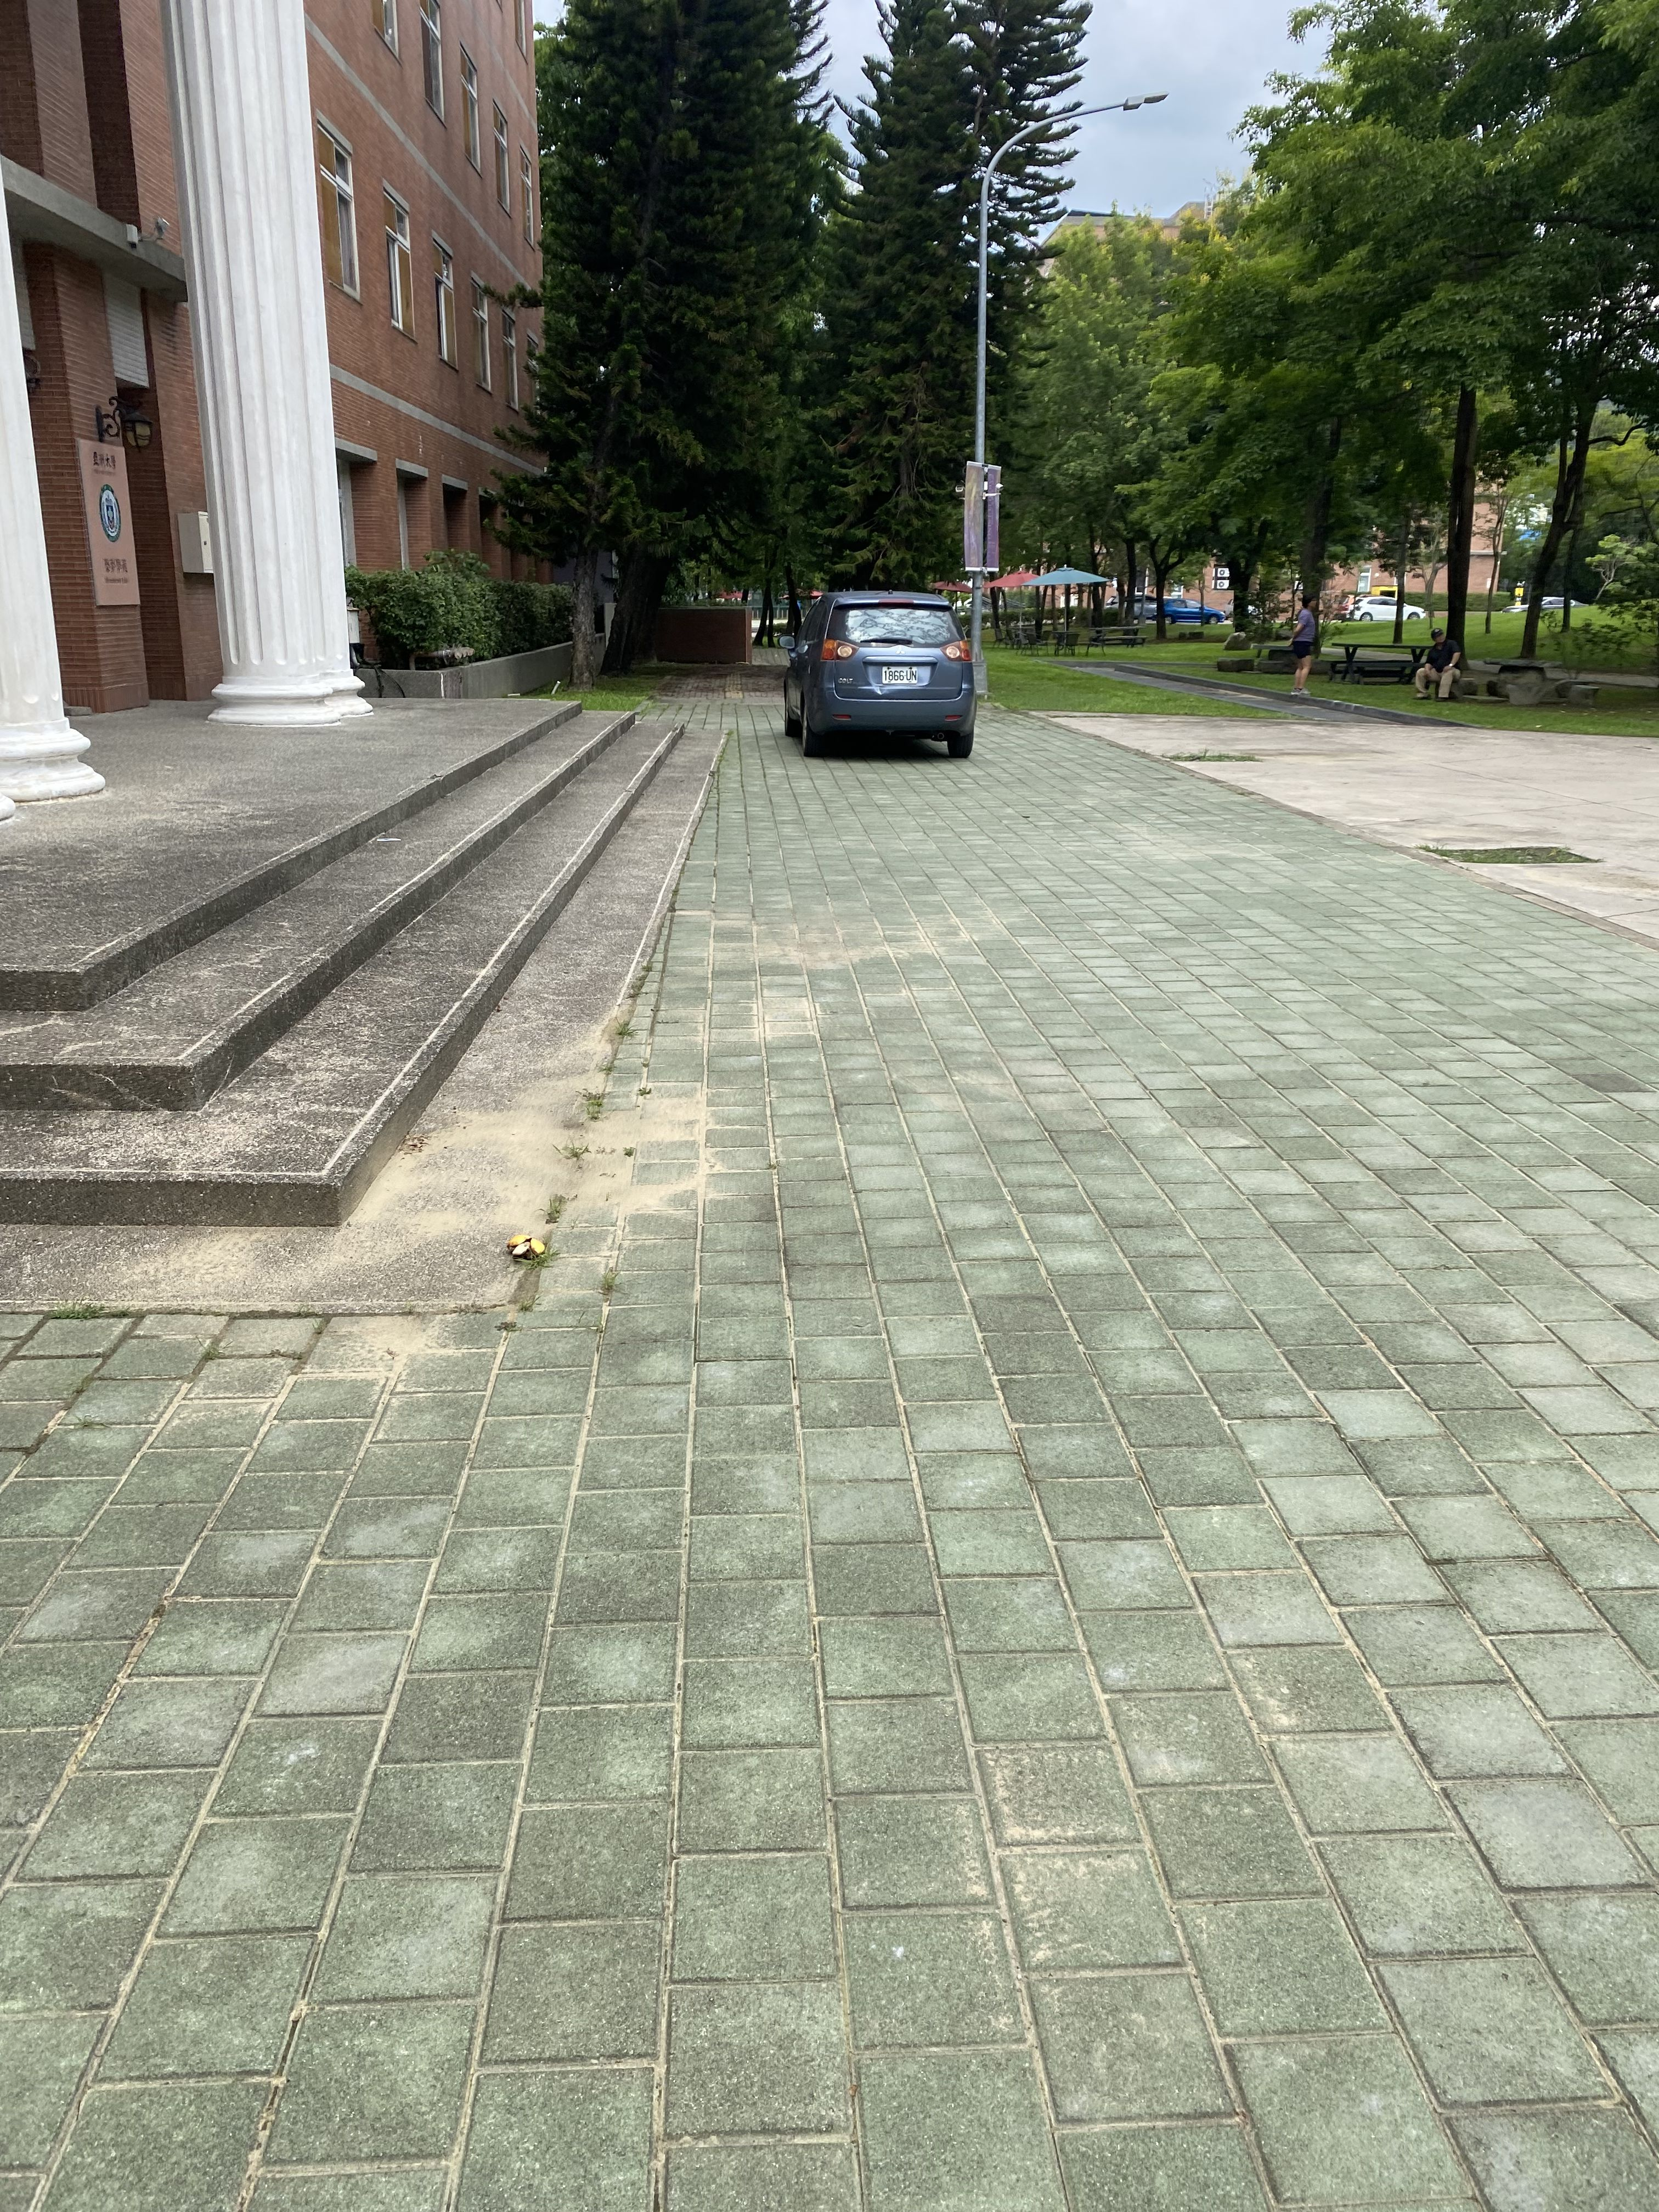sidewalk: (7, 648, 1657, 2212)
